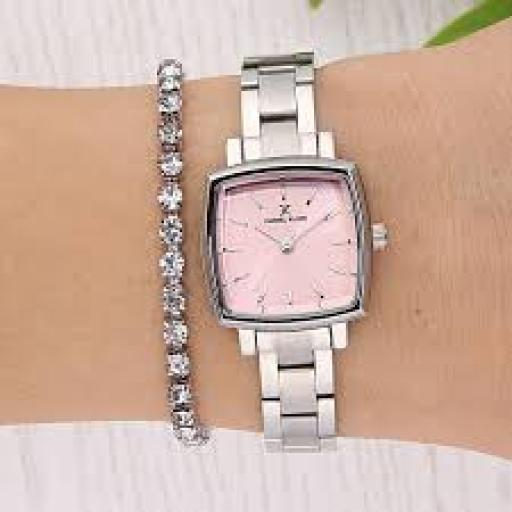KolSaati: (196, 43, 394, 466)
